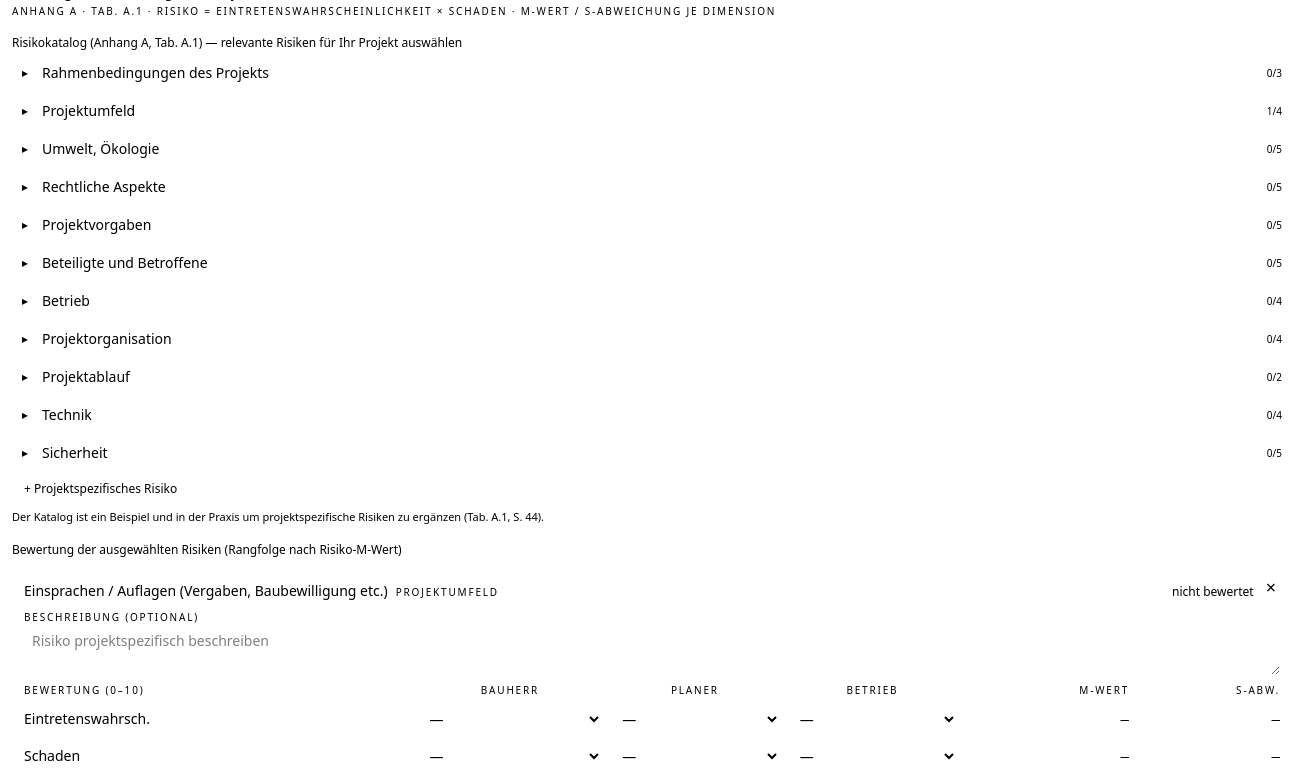
Scenario: RiskRegisterEditor — catalogue + multi-assessor assessment › reproduces the printed worked example: M-Wert und S-Abweichung je Dimension
This screenshot has width=1304, height=782.
Step 1. Select "8" in the dropdown named "Eintretenswahrscheinlichkeit Bauherr" → coordinates (510, 719), box [418,705,602,734]
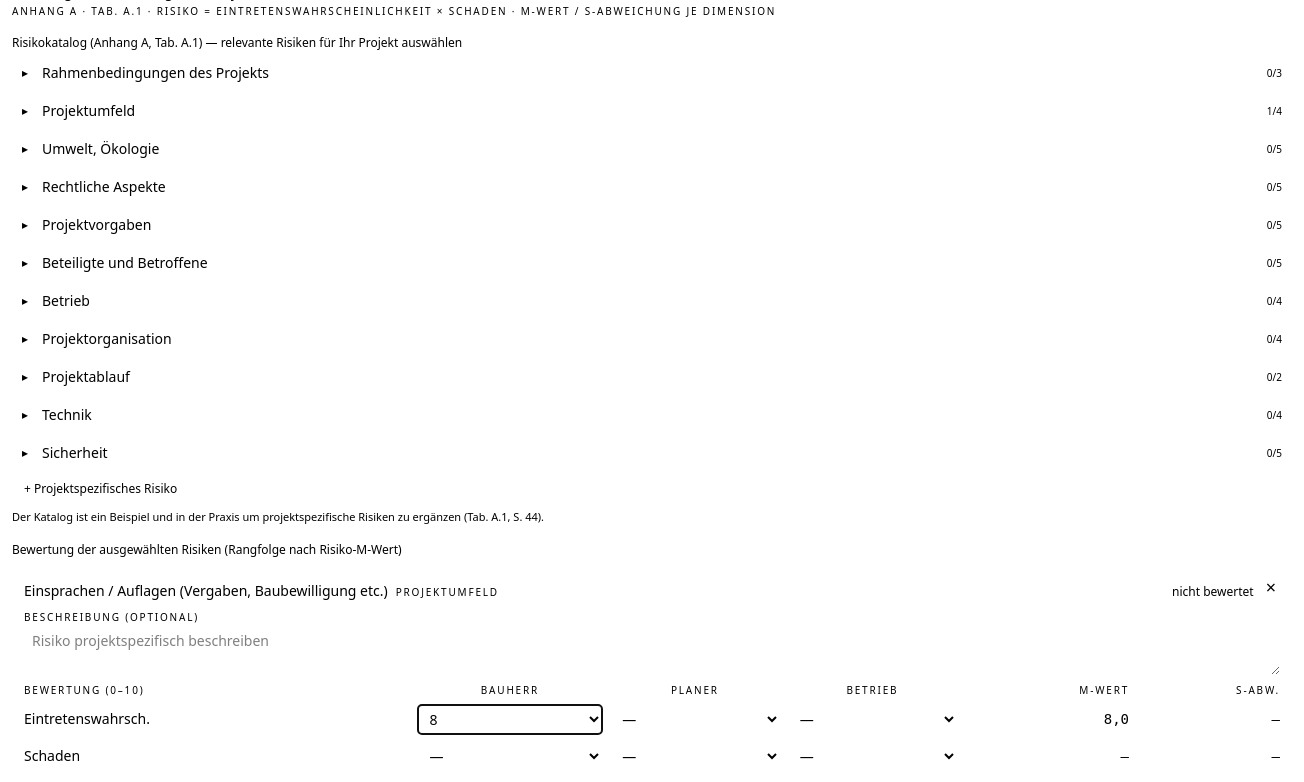
Step 2. Select "8" in the dropdown named "Eintretenswahrscheinlichkeit Planer" → coordinates (695, 719), box [610,705,780,734]
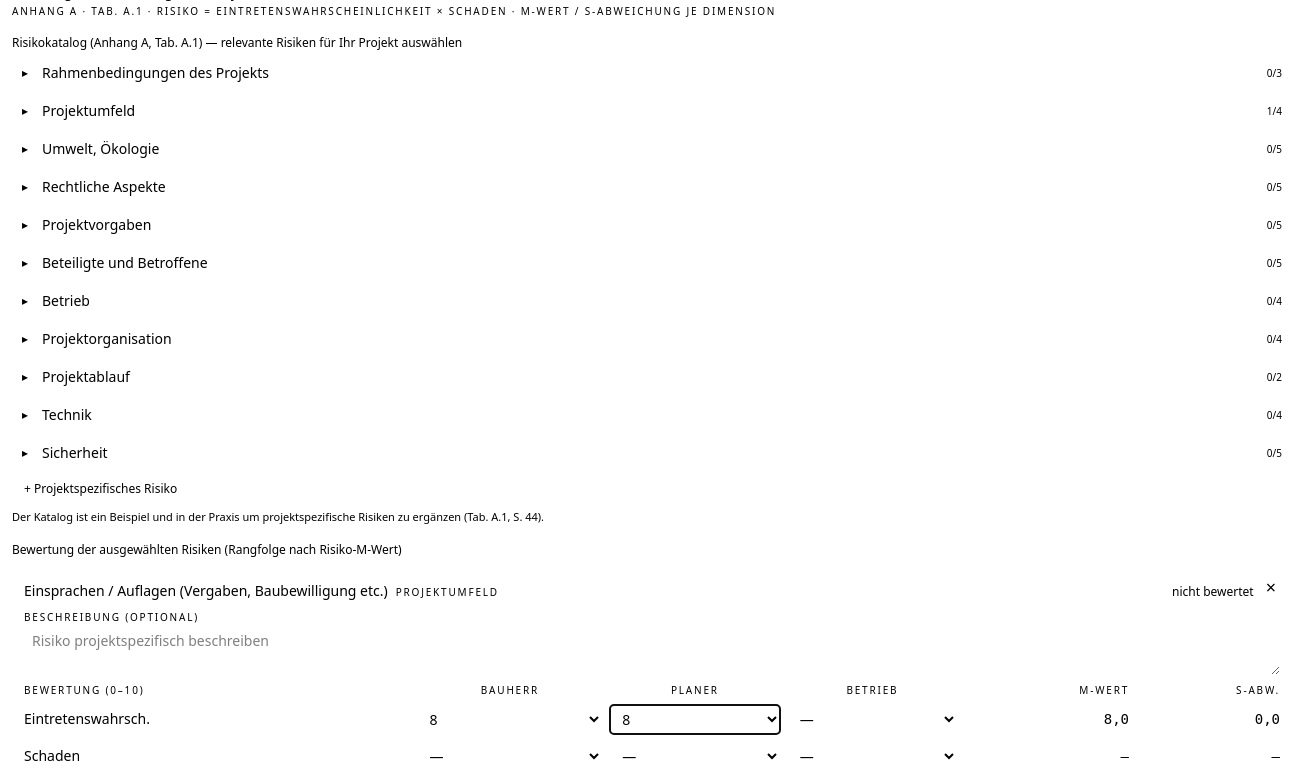
Step 3. Select "9" in the dropdown named "Eintretenswahrscheinlichkeit Betrieb" → coordinates (872, 719), box [788,705,957,734]
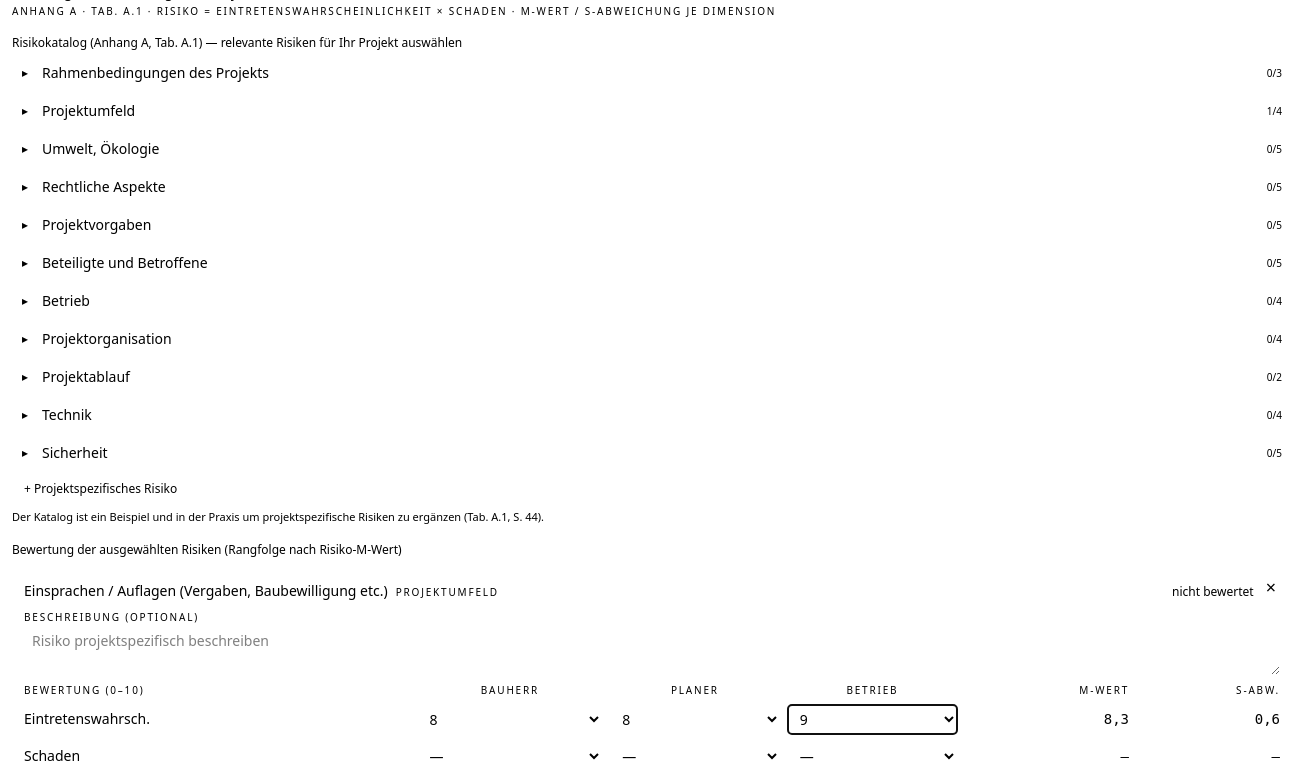
Step 4. Select "2" in the dropdown named "Schaden Bauherr" → coordinates (510, 756), box [418,742,602,771]
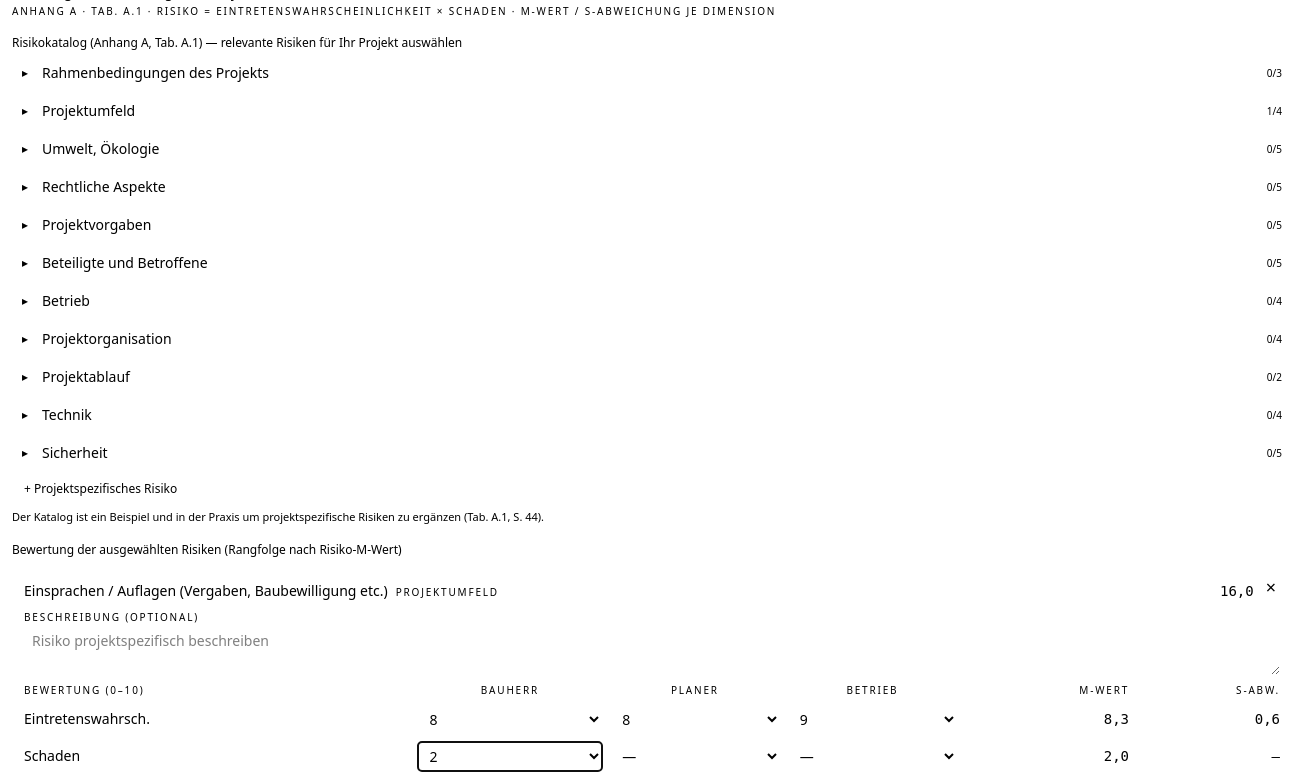
Step 5. Select "2" in the dropdown named "Schaden Planer" → coordinates (695, 756), box [610,742,780,771]
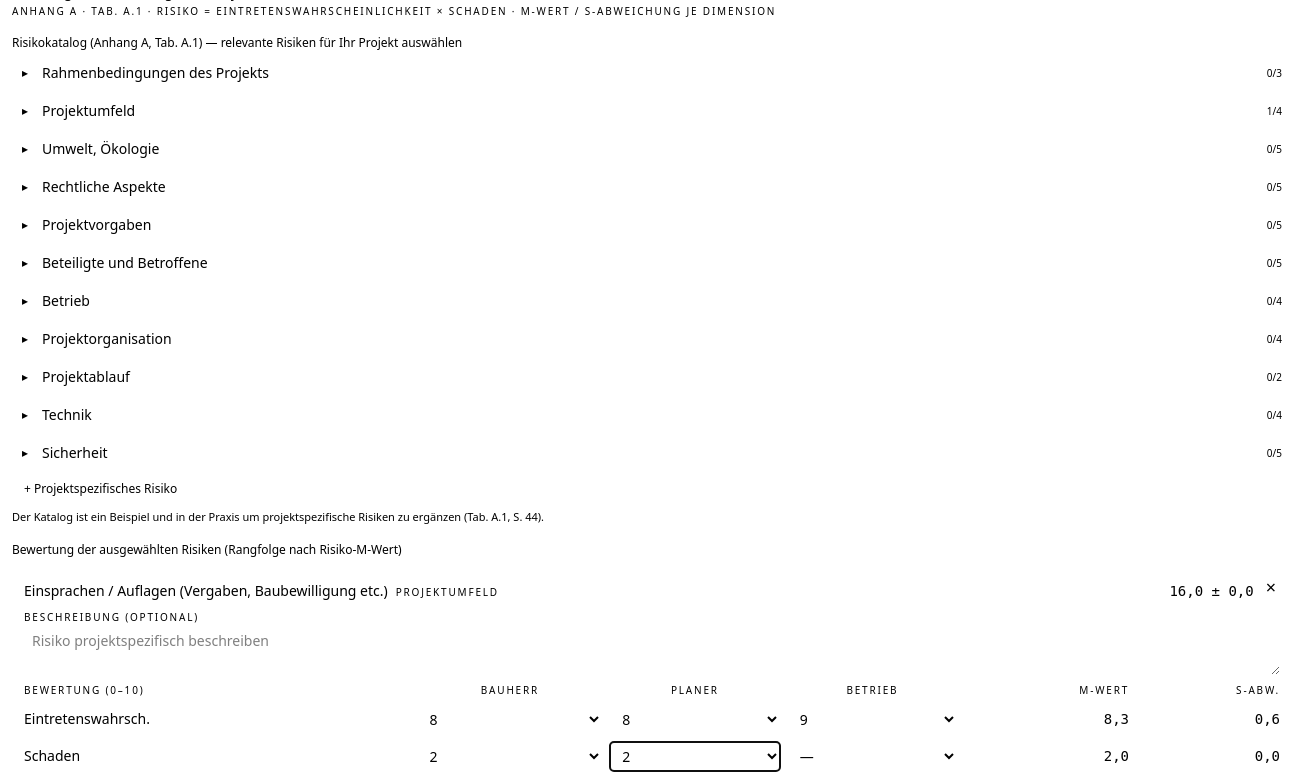
Step 6. Select "2" in the dropdown named "Schaden Betrieb" → coordinates (872, 756), box [788,742,957,771]
(page scrolled)
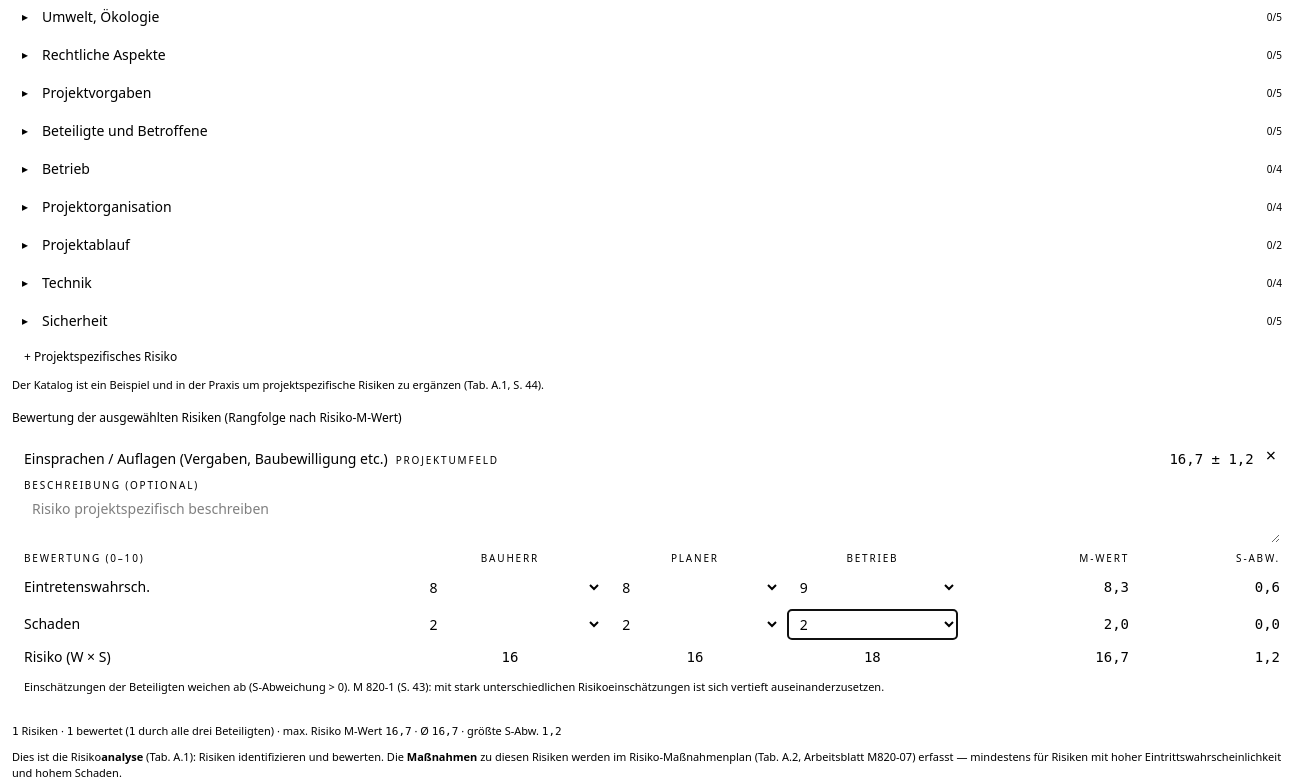
Now the text "8,3" is shown, box [961,569,1129,606]
Now the text "0,6" is shown, box [1129,569,1280,606]
Now the text "16,7" is shown, box [1169,450,1203,466]
